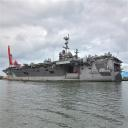Portanaves: (2, 34, 124, 84)
